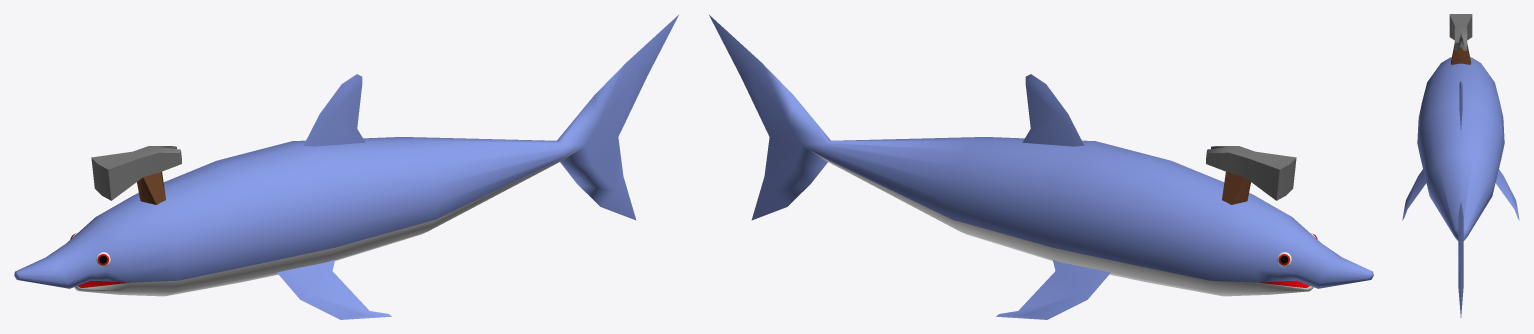
The model's file is shark.fbx.
3 renders of one model, left to right at view 1: azimuth 30°, elevation 25°; view 2: azimuth 150°, elevation 25°; view 3: azimuth 270°, elevation 25°, orthographic. The views are drawn at different scales.
Visible parts, largest first — view 1: Shark; view 2: Shark; view 3: Shark.
Part boxes in pixels (x1,y1,x2,y2): Shark: (14, 15, 678, 319); Shark: (709, 15, 1373, 319); Shark: (1402, 14, 1519, 317).
Size of the model in its own units: 446 by 138 by 100.
